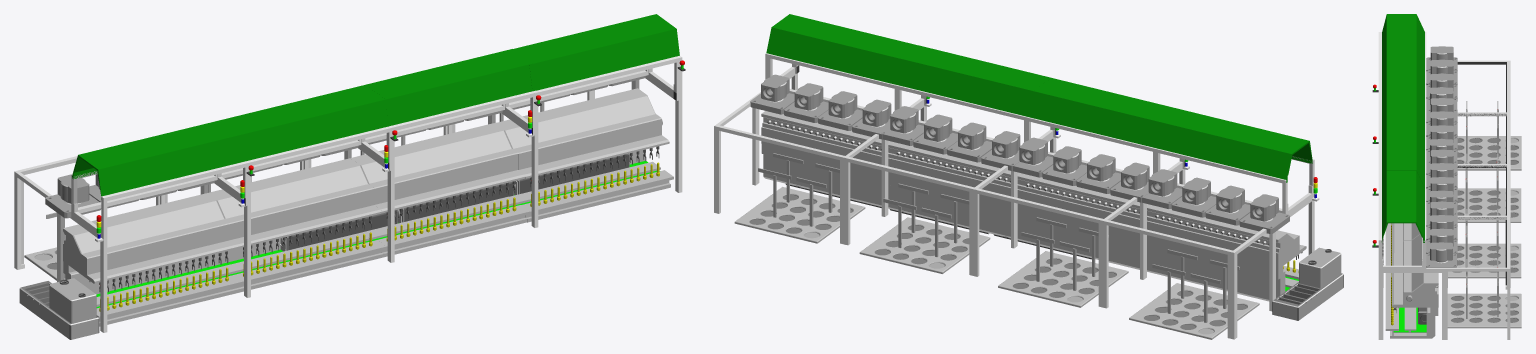
3 views of the same model, side by side, from view 1: azimuth 30°, elevation 25°; view 2: azimuth 150°, elevation 25°; view 3: azimuth 270°, elevation 25° (orthographic). The views are drawn at different scales.
Visible parts, largest first — view 1: *SOL343, *SOL124, *SOL8, *SOL236, *SOL446, *SOL112, *SOL228, *SOL341, *SOL340, *SOL6, *SOL122, *SOL342 (+14 smaller); view 2: *SOL446, *SOL228, *SOL341, *SOL112, *SOL340, *SOL457, *SOL233, *SOL119, *SOL114, *SOL122, *SOL343, *SOL6 (+29 smaller); view 3: *SOL6, *SOL233, *SOL112, *SOL228, *SOL8, *SOL446, *SOL457, *SOL340, *SOL119, *SOL114, *SOL122, *SOL341 (+22 smaller).
Boxes of the visible parts, <box> form: *SOL343: <box>63,193,238,283</box>; *SOL124: <box>350,123,525,213</box>; *SOL8: <box>494,88,669,178</box>; *SOL236: <box>207,158,381,248</box>; *SOL446: <box>72,119,248,199</box>; *SOL112: <box>513,14,679,91</box>; *SOL228: <box>365,49,532,126</box>; *SOL341: <box>14,156,254,332</box>; *SOL340: <box>226,85,388,160</box>; *SOL6: <box>447,55,685,227</box>; *SOL122: <box>303,90,541,262</box>; *SOL342: <box>65,255,242,326</box>; *SOL446: <box>1154,108,1312,182</box>; *SOL228: <box>895,45,1050,116</box>; *SOL341: <box>1101,148,1319,339</box>; *SOL112: <box>766,14,918,84</box>; *SOL340: <box>1028,78,1176,147</box>; *SOL457: <box>859,183,990,273</box>; *SOL233: <box>734,153,865,243</box>; *SOL119: <box>998,217,1128,307</box>; *SOL114: <box>1129,249,1259,339</box>; *SOL122: <box>843,84,1060,275</box>; *SOL343: <box>1149,205,1306,269</box>; *SOL6: <box>714,53,931,243</box>; *SOL6: <box>1372,188,1510,339</box>; *SOL233: <box>1447,258,1521,328</box>; *SOL112: <box>1381,170,1424,242</box>; *SOL228: <box>1382,117,1424,188</box>; *SOL8: <box>1392,234,1438,308</box>; *SOL446: <box>1382,14,1424,83</box>; *SOL457: <box>1448,208,1521,278</box>; *SOL340: <box>1382,65,1424,134</box>; *SOL119: <box>1457,153,1521,222</box>; *SOL114: <box>1457,101,1521,170</box>; *SOL122: <box>1372,135,1510,287</box>; *SOL341: <box>1372,32,1510,116</box>.
Size of the model in its own units: 65.34 by 16.49 by 18.72.
